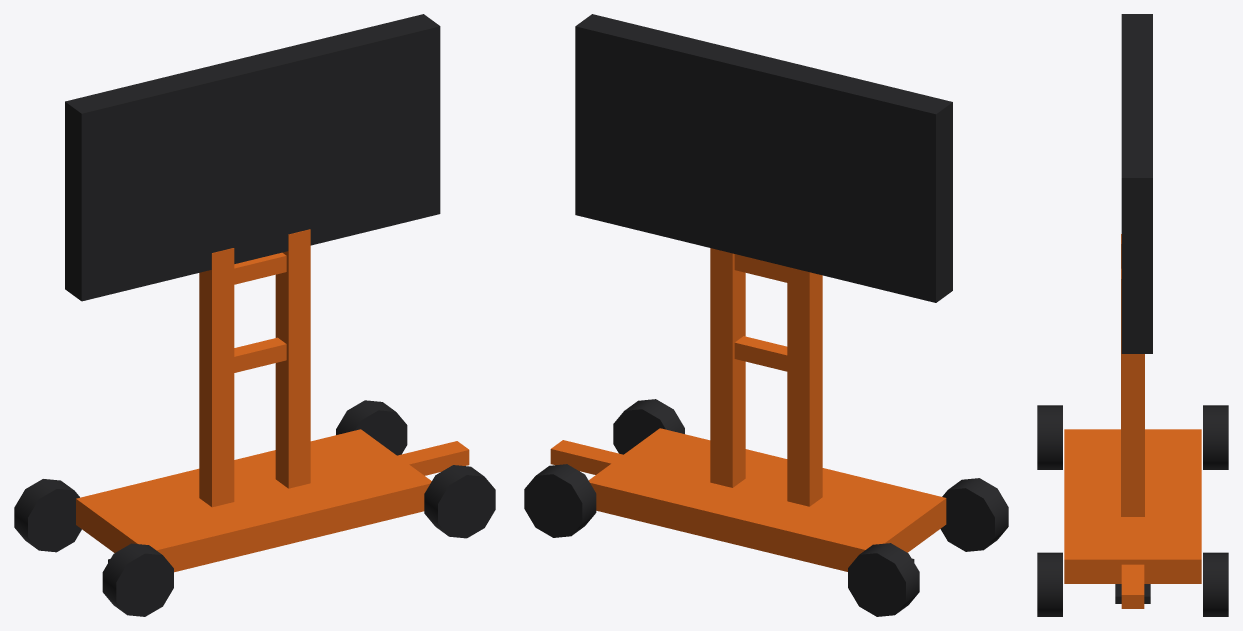
The model's file is workzone_arrow_board_inv.obj.
The picture shows the model from 3 angles, left to right: view 1: azimuth 30°, elevation 25°; view 2: azimuth 150°, elevation 25°; view 3: azimuth 270°, elevation 25°; orthographic projection. The views are drawn at different scales.
Parts seen in each view (by area): view 1: workzone_arrow_board_inv; view 2: workzone_arrow_board_inv; view 3: workzone_arrow_board_inv.
Boxes of the visible parts, box(x1,y1,x2,y2) form: workzone_arrow_board_inv: box(14, 14, 495, 616); workzone_arrow_board_inv: box(524, 14, 1008, 616); workzone_arrow_board_inv: box(1037, 14, 1228, 616).
Size of the model in its own units: 0.8227 by 0.9375 by 0.3652.
